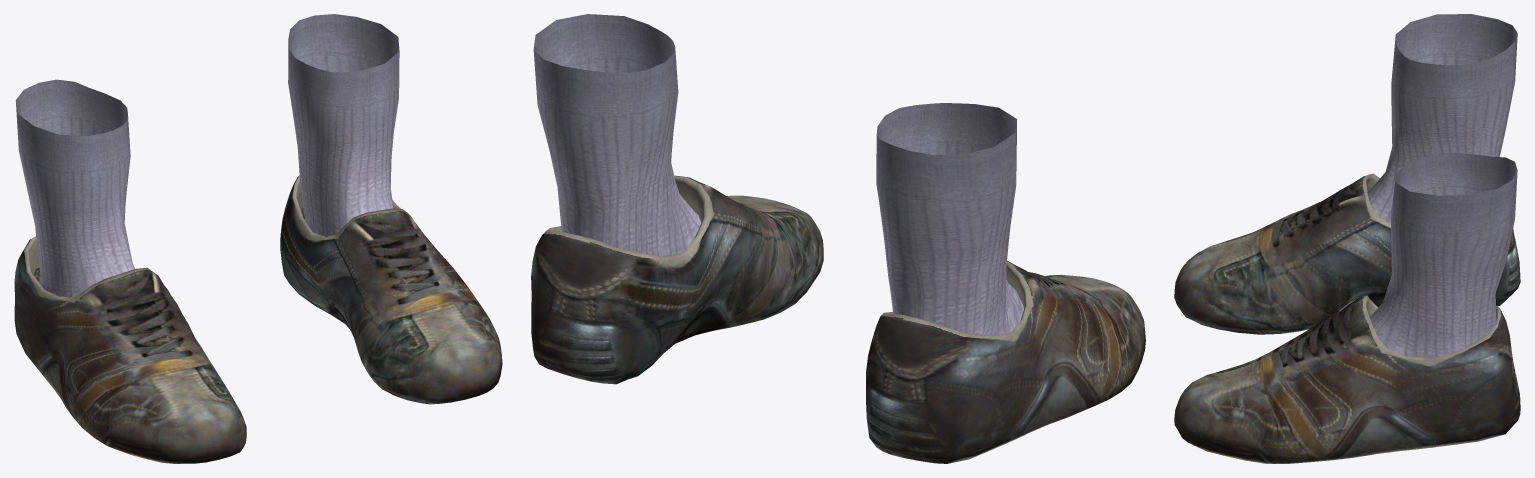
Rendered from shoes_grey_trainers.gltf.
3 renders of one model, left to right at view 1: azimuth 30°, elevation 25°; view 2: azimuth 150°, elevation 25°; view 3: azimuth 270°, elevation 25°, orthographic. The views are drawn at different scales.
Parts seen in each view (by area): view 1: shoes_grey_trainers; view 2: shoes_grey_trainers; view 3: shoes_grey_trainers.
Boxes of the visible parts, left/top/right/bottom form: shoes_grey_trainers: left=14, top=14, right=502, bottom=463; shoes_grey_trainers: left=531, top=14, right=1145, bottom=463; shoes_grey_trainers: left=1174, top=14, right=1520, bottom=463.
Bounding box in the file's own units: 0.3485 × 0.2264 × 0.2575.
Materials: 1 (1 with a texture image).
